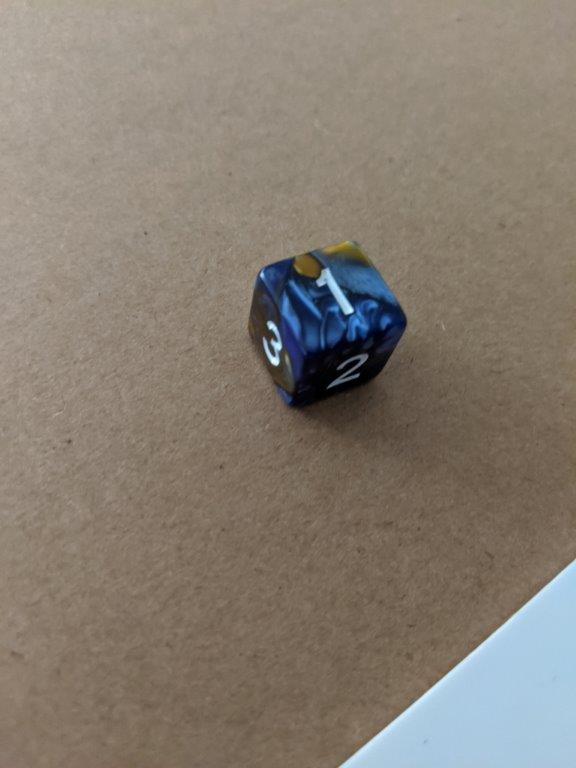d6-1: (246, 237, 409, 410)
